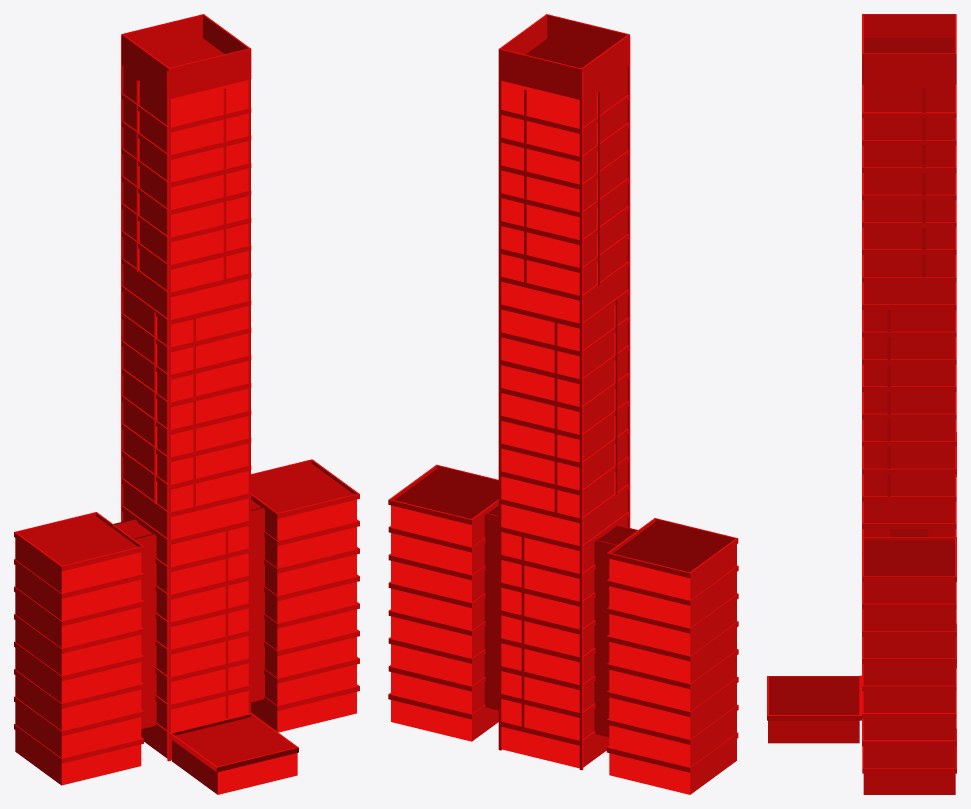
The model's file is TallBuilding2_M_V1_Raghu.fbx.
The picture shows the model from 3 angles, left to right: view 1: azimuth 30°, elevation 25°; view 2: azimuth 150°, elevation 25°; view 3: azimuth 270°, elevation 25°; orthographic projection.
Parts seen in each view (by area): view 1: tallBuilding_M_v2_raghu_low; view 2: tallBuilding_M_v2_raghu_low; view 3: tallBuilding_M_v2_raghu_low.
Boxes of the visible parts, x1=… form: tallBuilding_M_v2_raghu_low: x1=14, y1=14, x2=359, y2=794; tallBuilding_M_v2_raghu_low: x1=388, y1=14, x2=738, y2=794; tallBuilding_M_v2_raghu_low: x1=767, y1=14, x2=956, y2=794.
Size of the model in its own units: 3736 by 8285 by 2065.
